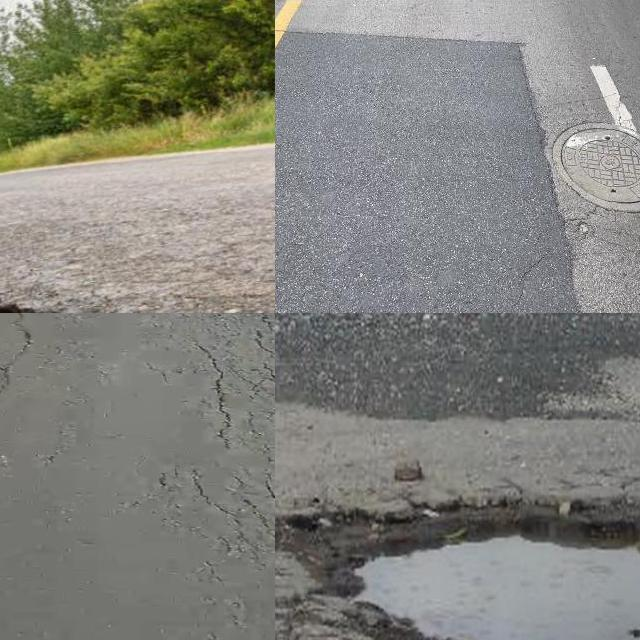Lubang: (290, 500, 640, 640)
Sambungan: (275, 30, 584, 313)
